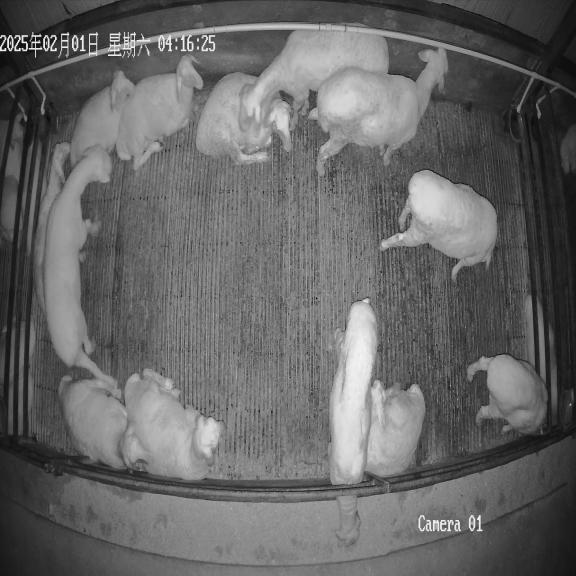eating: (327, 298, 377, 545)
lying: (124, 369, 224, 480), (116, 55, 203, 170), (196, 72, 291, 165), (58, 376, 147, 468), (33, 142, 70, 314), (70, 70, 135, 165), (365, 380, 425, 477)
stand: (311, 49, 448, 175), (43, 146, 112, 378), (239, 30, 389, 126), (380, 170, 497, 281), (468, 354, 548, 434)
